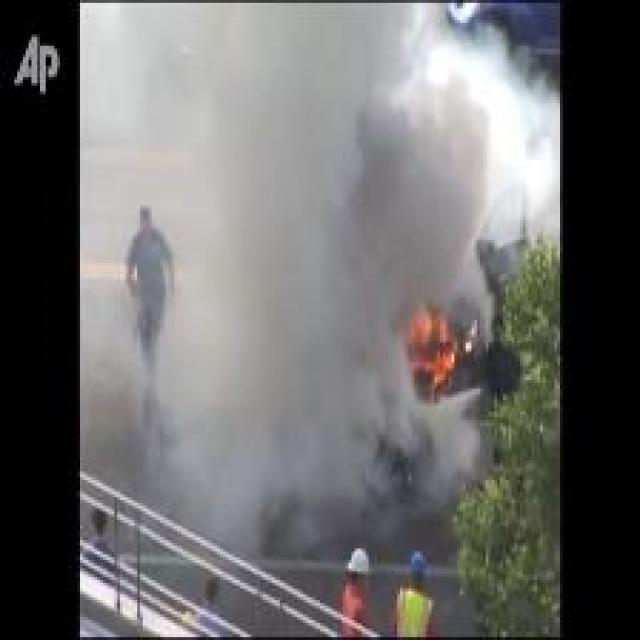Fire: (402, 303, 456, 386)
